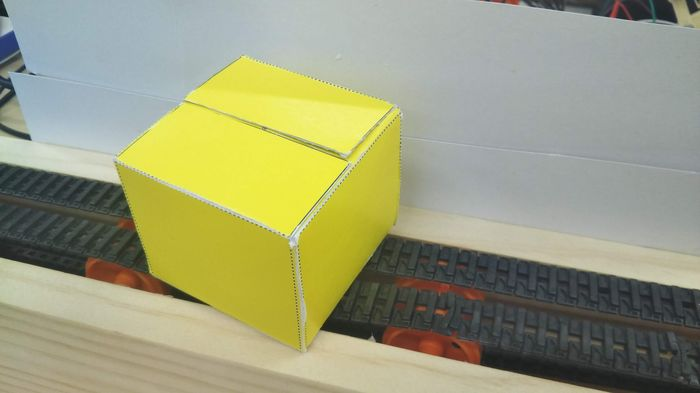box4: (109, 52, 404, 351)
